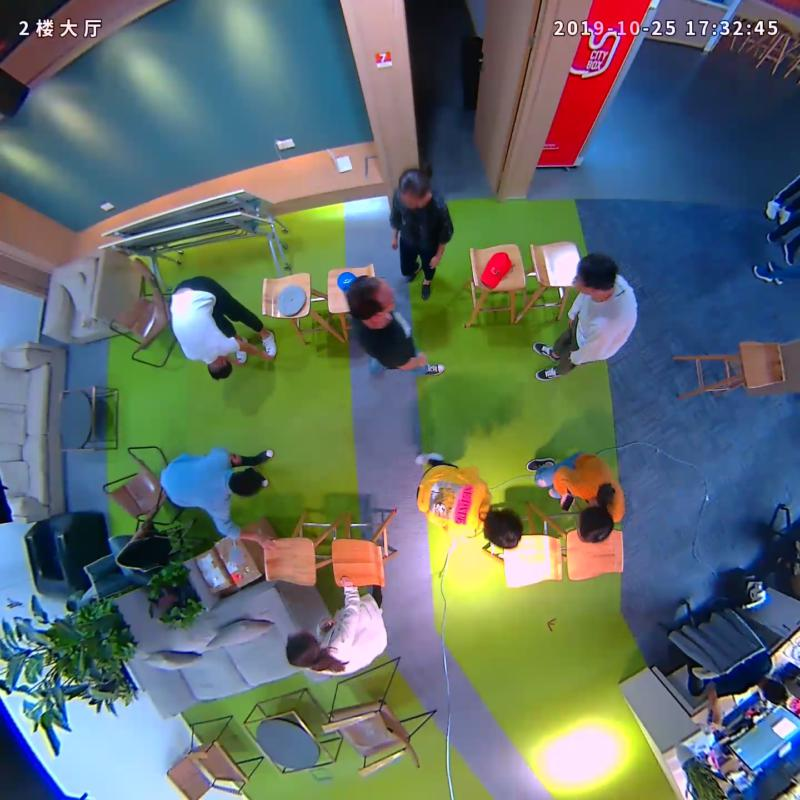head: (343, 272, 402, 327), (385, 160, 439, 213), (572, 252, 626, 301), (475, 501, 524, 555), (281, 627, 330, 678), (573, 499, 619, 549), (221, 466, 268, 502), (202, 353, 239, 383)
